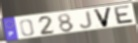0: (20, 19, 36, 37)
2: (38, 15, 56, 35)
8: (57, 13, 75, 33)
E: (114, 4, 135, 25)
J: (79, 10, 94, 29)
V: (92, 7, 114, 29)
